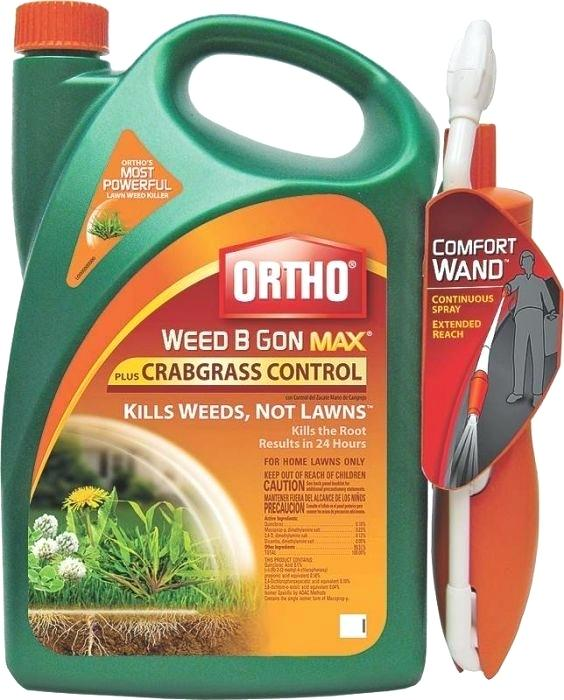crabgrass: (83, 495, 204, 598)
